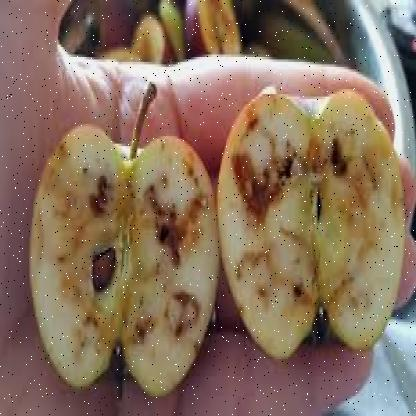damaged_apple: (32, 116, 218, 396), (222, 89, 408, 364)
